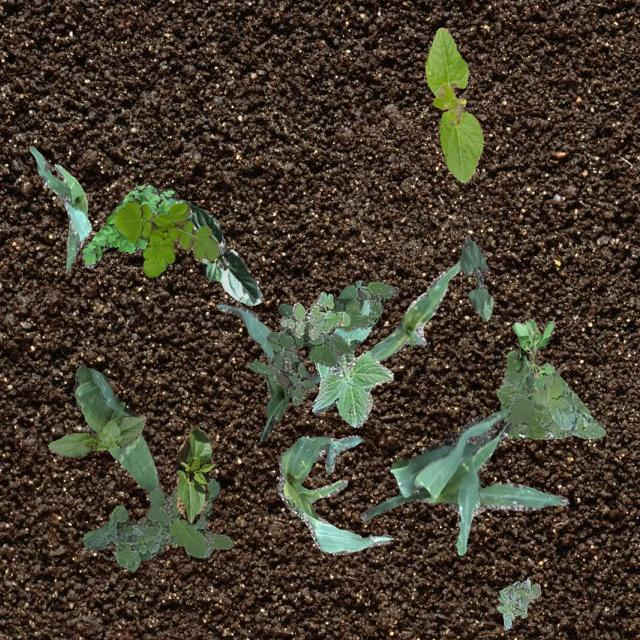crop: (360, 409, 568, 554), (216, 302, 320, 440), (276, 434, 392, 554), (310, 294, 392, 426), (73, 364, 158, 491), (174, 195, 262, 304), (370, 260, 460, 362), (424, 27, 482, 182), (29, 144, 90, 268), (46, 414, 144, 458), (176, 424, 213, 522), (458, 238, 492, 320)
weed: (247, 280, 398, 404), (81, 478, 232, 570), (496, 349, 604, 438), (80, 184, 176, 268), (112, 200, 218, 276), (278, 290, 348, 338), (512, 318, 554, 392), (496, 578, 540, 628)
